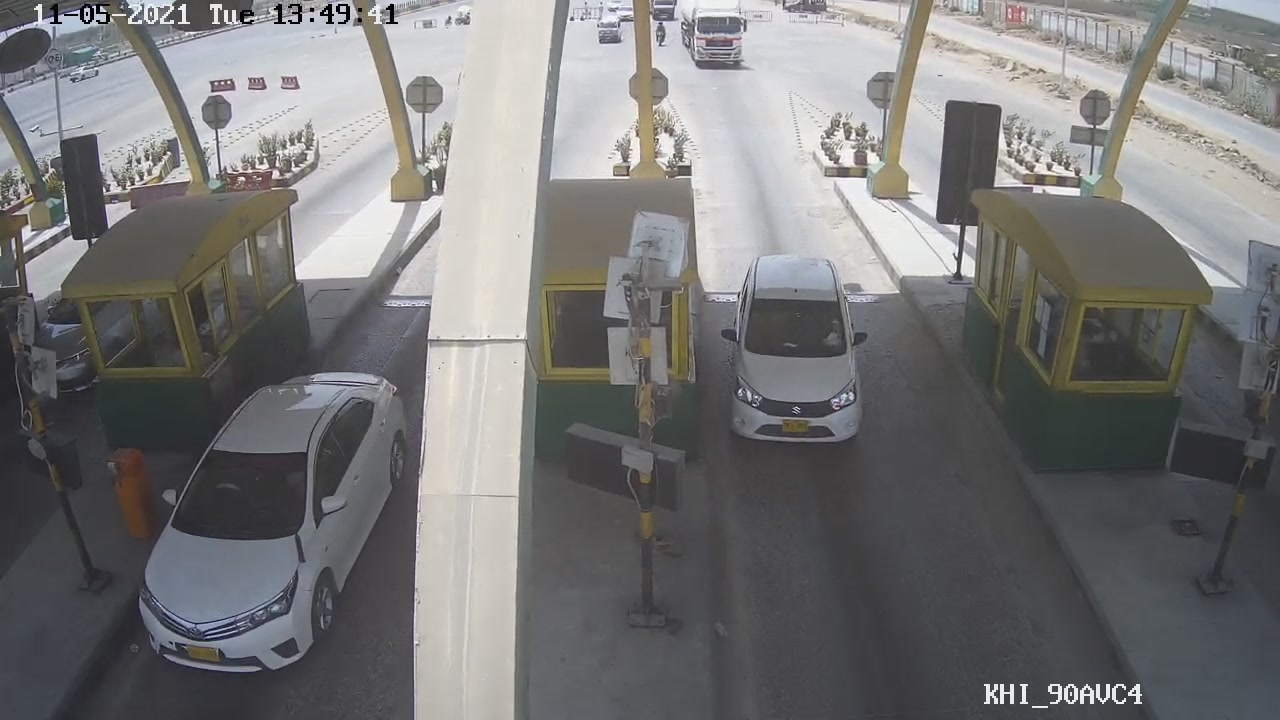F1: (717, 247, 884, 457)
